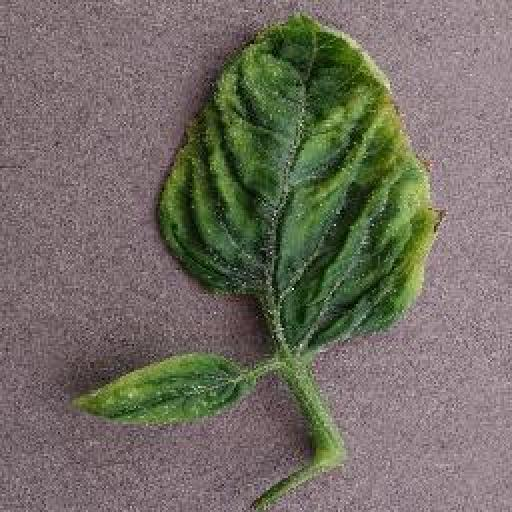disease_tomato: (153, 16, 448, 359)
